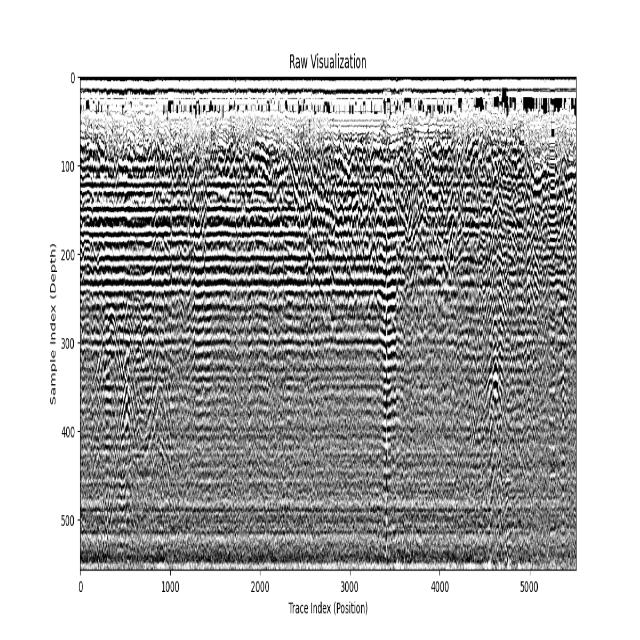anomaly: (88, 298, 178, 546), (479, 244, 511, 517), (376, 243, 396, 522)
